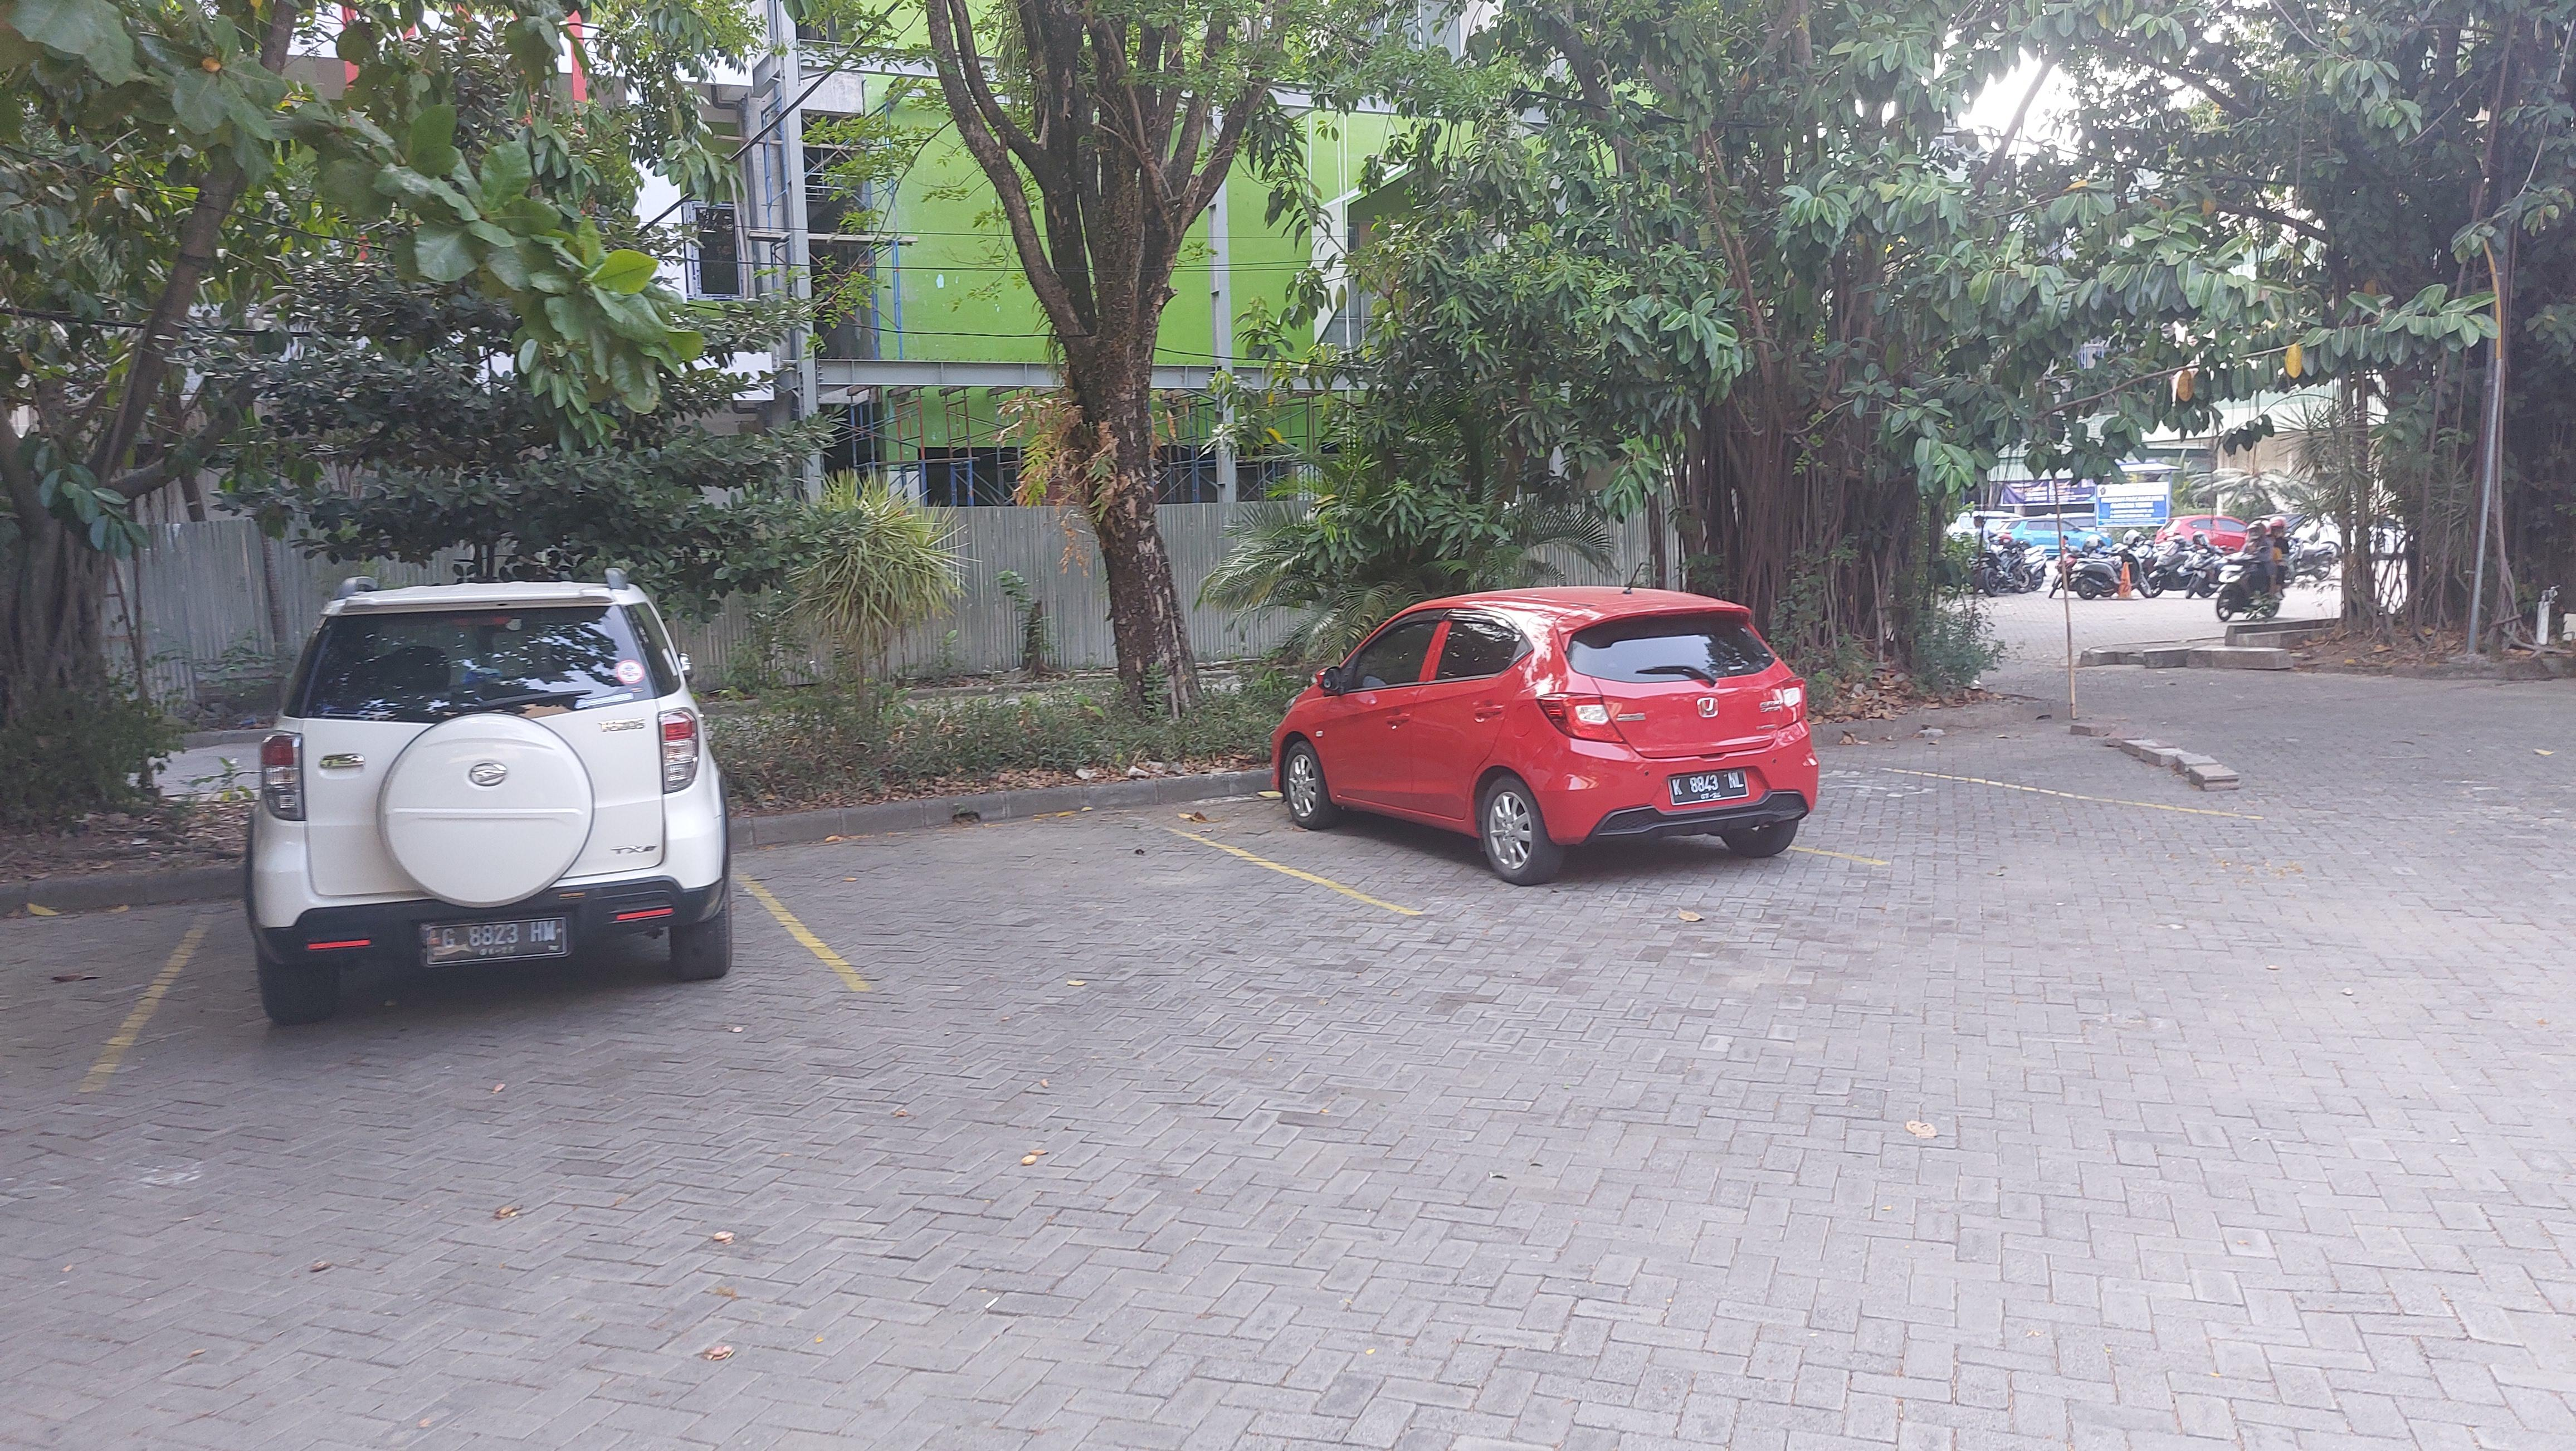empty: (727, 807, 1412, 982), (1813, 761, 2256, 865)
occupied: (93, 586, 860, 1095), (1116, 583, 1875, 913)
